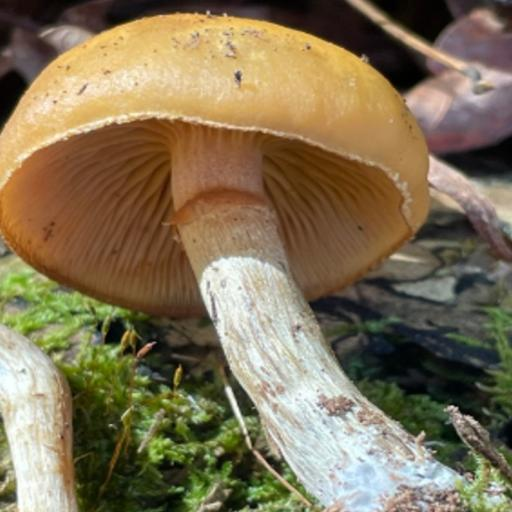mushroom: (10, 11, 429, 393)
